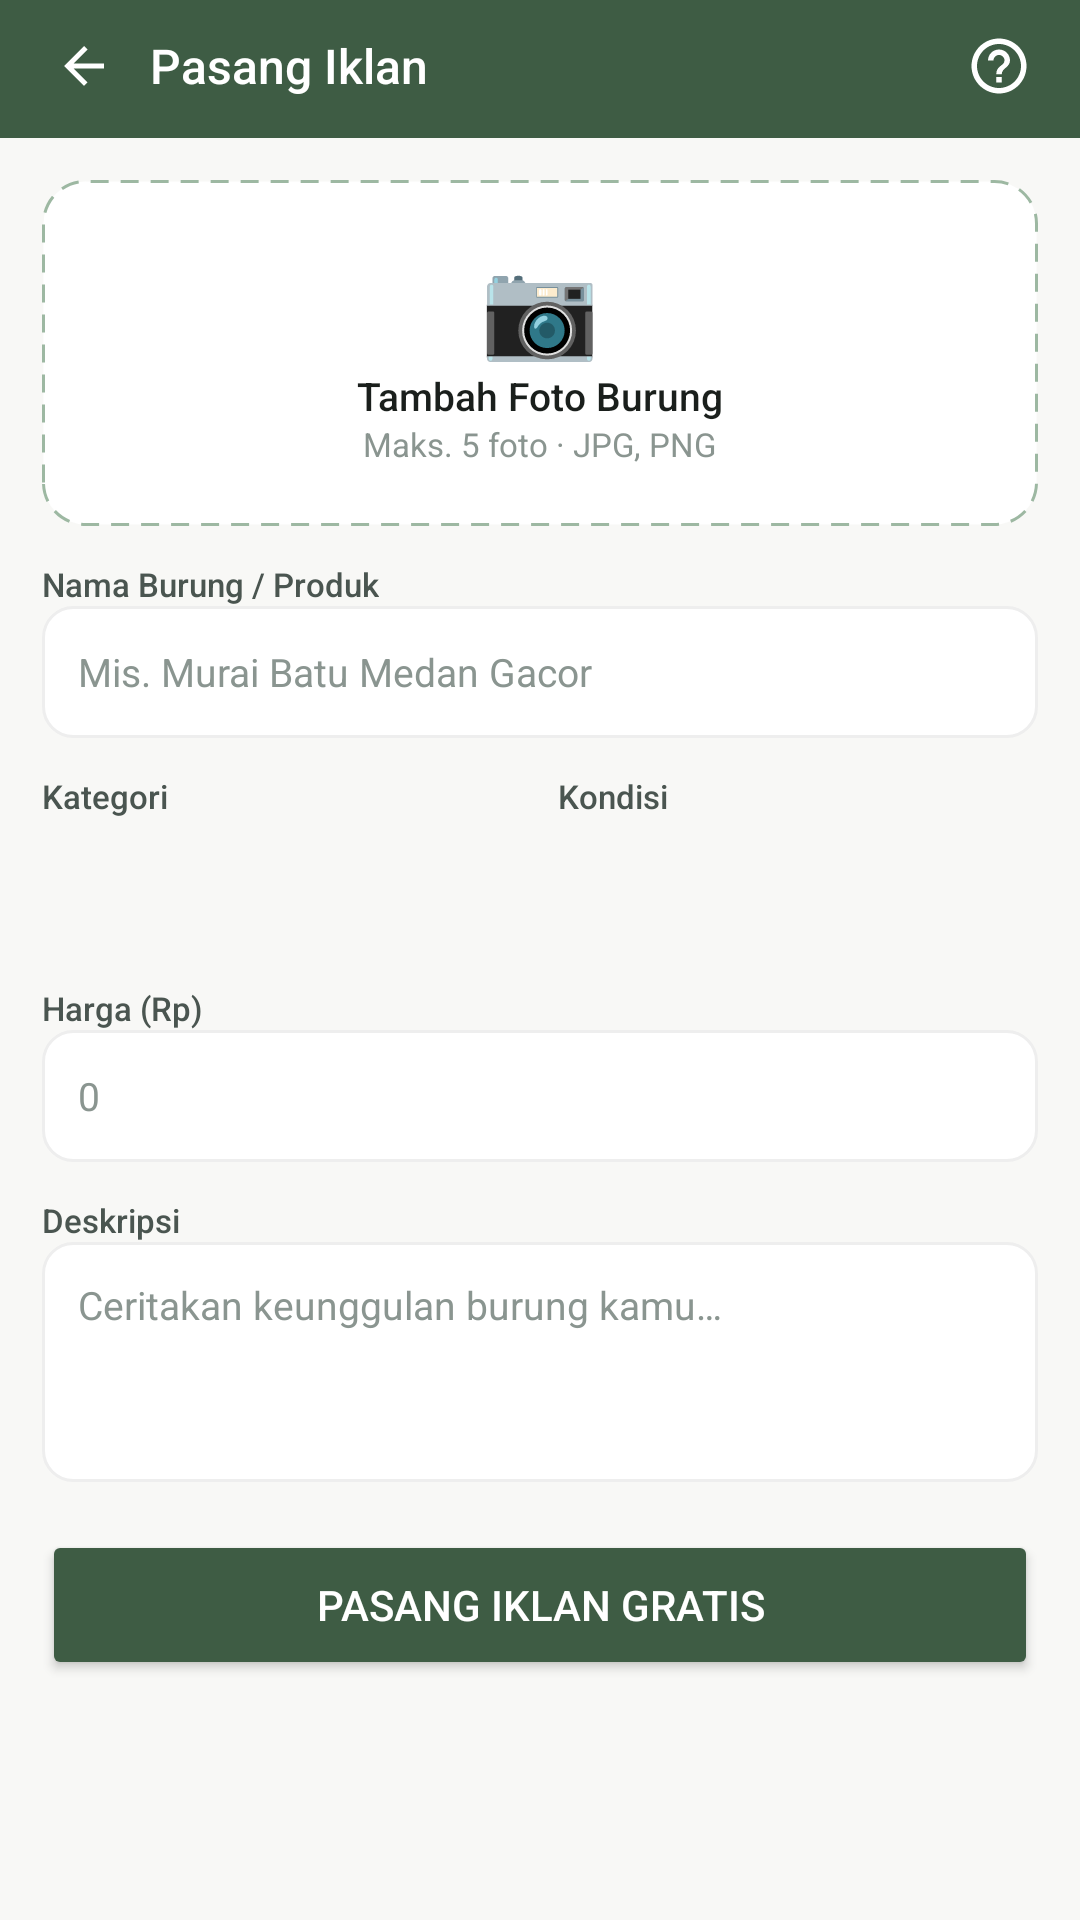

Locate icon controls on the screen. Image size 1080 x 1920, boxes as (x1, y1, x2, y2).
Bantuan: (971, 38, 1027, 94)
Kembali: (64, 46, 104, 86)
